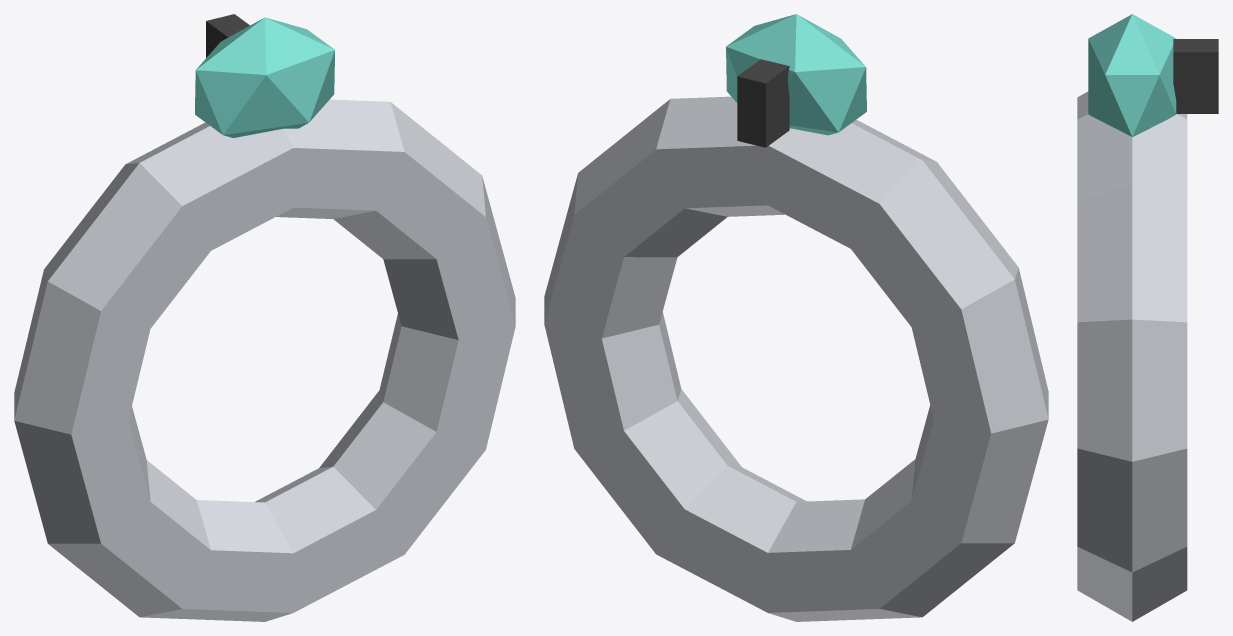
The model's file is EmblemOracle.fbx.
3 views of the same model, side by side, from view 1: azimuth 30°, elevation 25°; view 2: azimuth 150°, elevation 25°; view 3: azimuth 270°, elevation 25° (orthographic). The views are drawn at different scales.
Visible parts, largest first — view 1: fam_steel, fam_teal_emit, fam_black; view 2: fam_steel, fam_teal_emit, fam_black; view 3: fam_steel, fam_teal_emit, fam_black.
Boxes of the visible parts, <box> form: fam_steel: <box>14,99,515,621</box>; fam_teal_emit: <box>195,17,334,137</box>; fam_black: <box>206,14,249,57</box>; fam_steel: <box>544,96,1048,621</box>; fam_teal_emit: <box>726,14,866,135</box>; fam_black: <box>737,59,789,147</box>; fam_steel: <box>1077,91,1187,621</box>; fam_teal_emit: <box>1088,14,1176,136</box>; fam_black: <box>1173,39,1218,113</box>.
Bounding box in the file's own units: 0.861 × 0.9919 × 0.2179.
